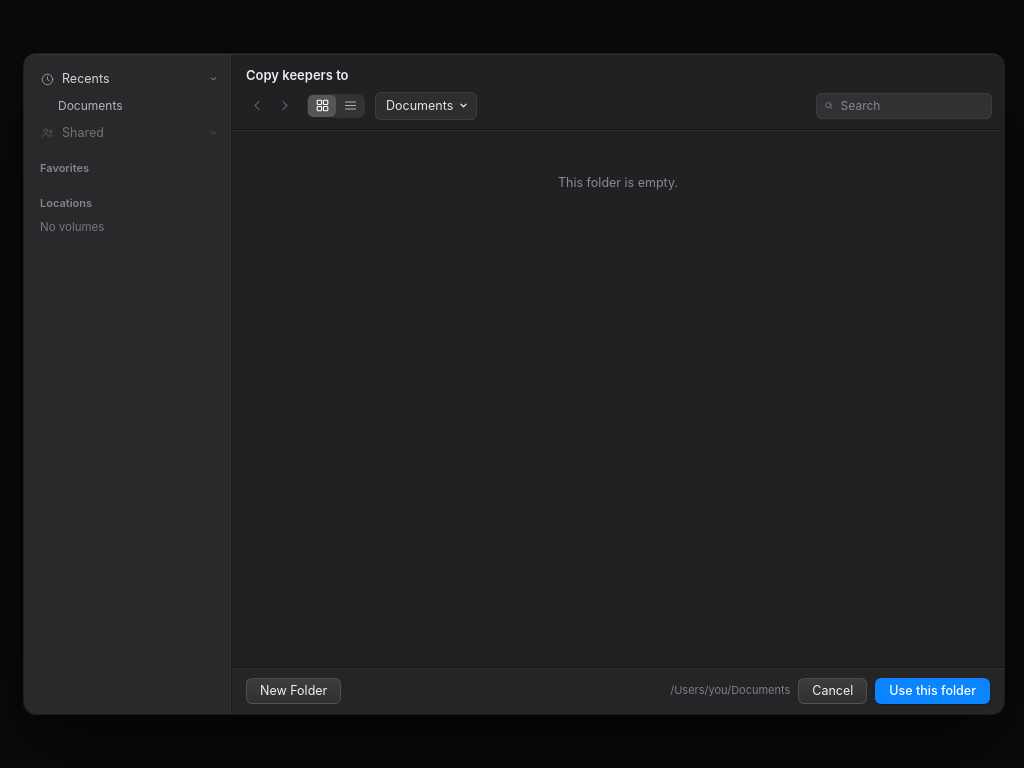
Scenario: the New Folder prompt › names the folder the new folder will live inside
Click the button "New Folder": {"x": 294, "y": 691} 246,678 -> 341,704
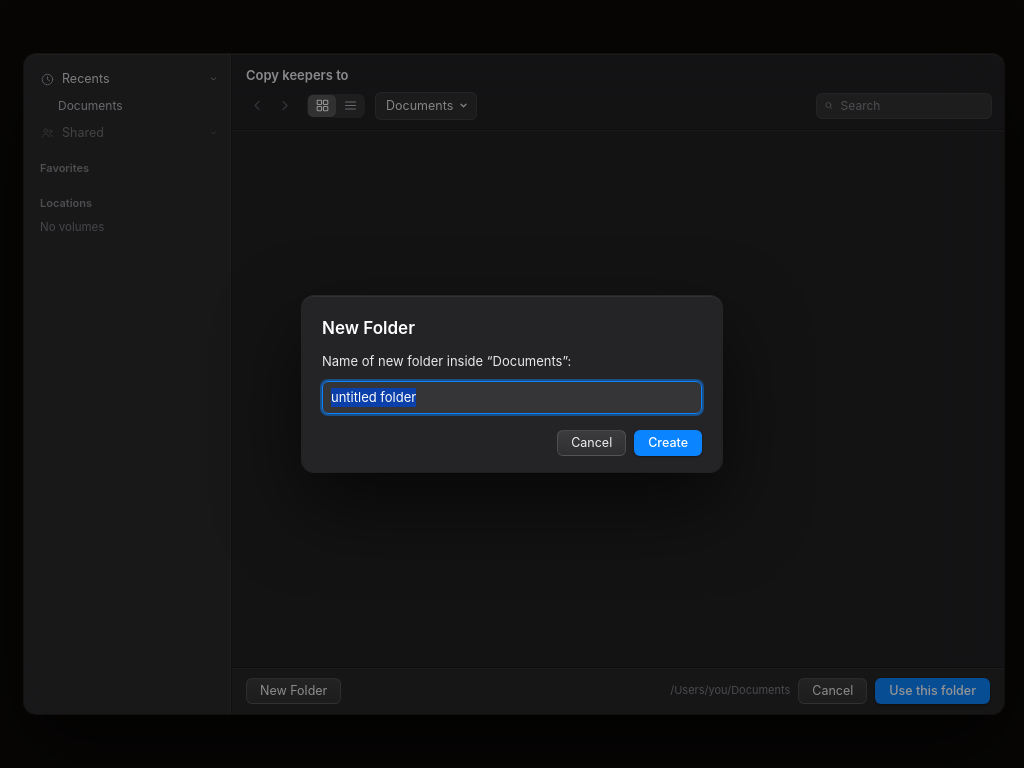
Expected: the text "Name of new folder inside “Documents”:" is shown, 322,354 -> 571,370
Expected: the field named "New folder name" holds "untitled folder", 322,381 -> 702,414
